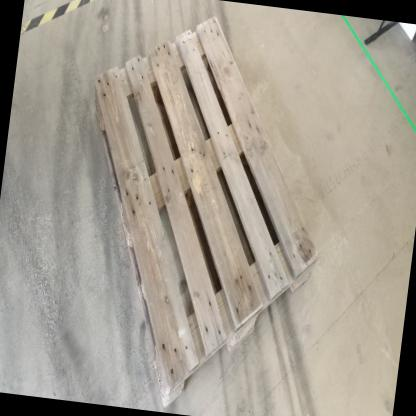BoxFace: (87, 11, 322, 412)
